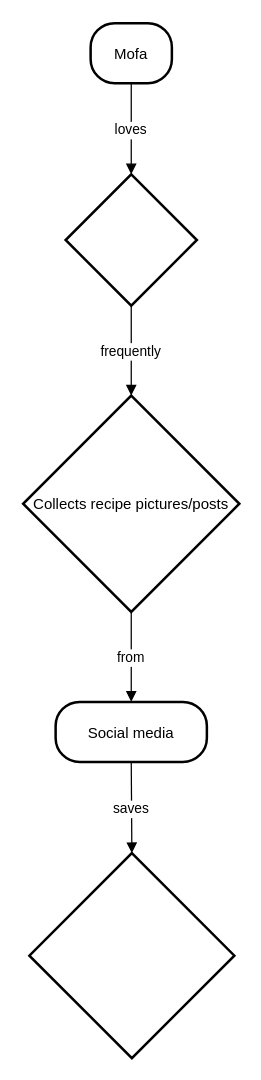
This 261x1080 diagram has some shape labels left out. Here are the shapes that lost their labels. From the top down, the centre of each, then its label:
At (x=131, y=239): "Cooking".
At (x=131, y=955): "Favorite recipes".
